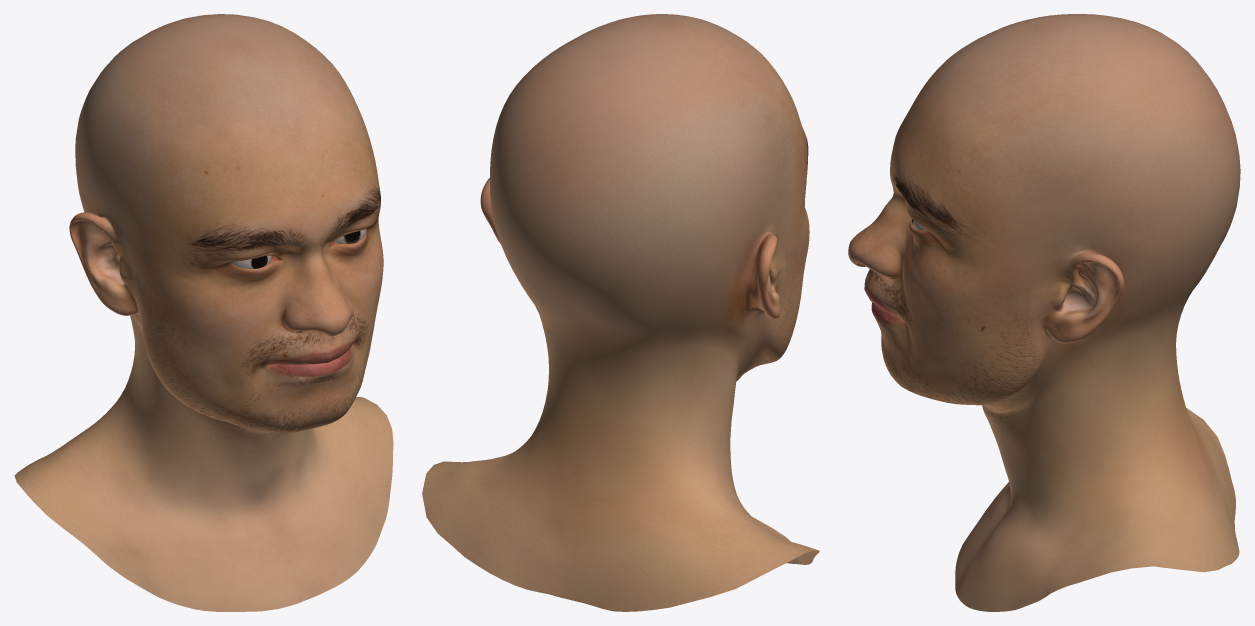
The picture shows the model from 3 angles, left to right: view 1: azimuth 30°, elevation 25°; view 2: azimuth 150°, elevation 25°; view 3: azimuth 270°, elevation 25°; orthographic projection. The views are drawn at different scales.
Parts seen in each view (by area): view 1: Registered head; view 2: Registered head; view 3: Registered head.
Part boxes in pixels (box(x1,y1,x2,y2)): Registered head: box(14, 14, 393, 611); Registered head: box(422, 14, 819, 611); Registered head: box(848, 14, 1240, 611).
Bounding box in the file's own units: 1.25 × 1.8 × 1.16.
3 materials, 3 textured.
